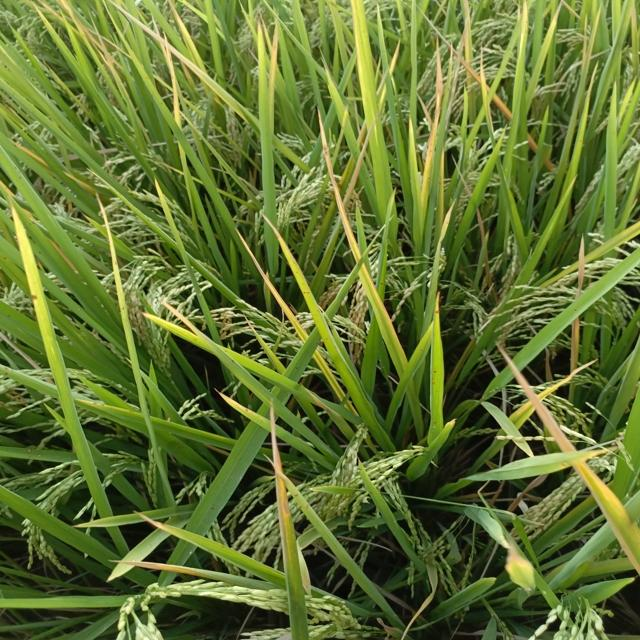Brown spot: (491, 334, 640, 580), (314, 104, 379, 290), (266, 396, 313, 594), (406, 33, 444, 260), (563, 230, 594, 394), (252, 8, 282, 154), (104, 556, 238, 585), (161, 30, 185, 135), (260, 210, 300, 261), (132, 507, 184, 539)
insects: (28, 290, 40, 302)
